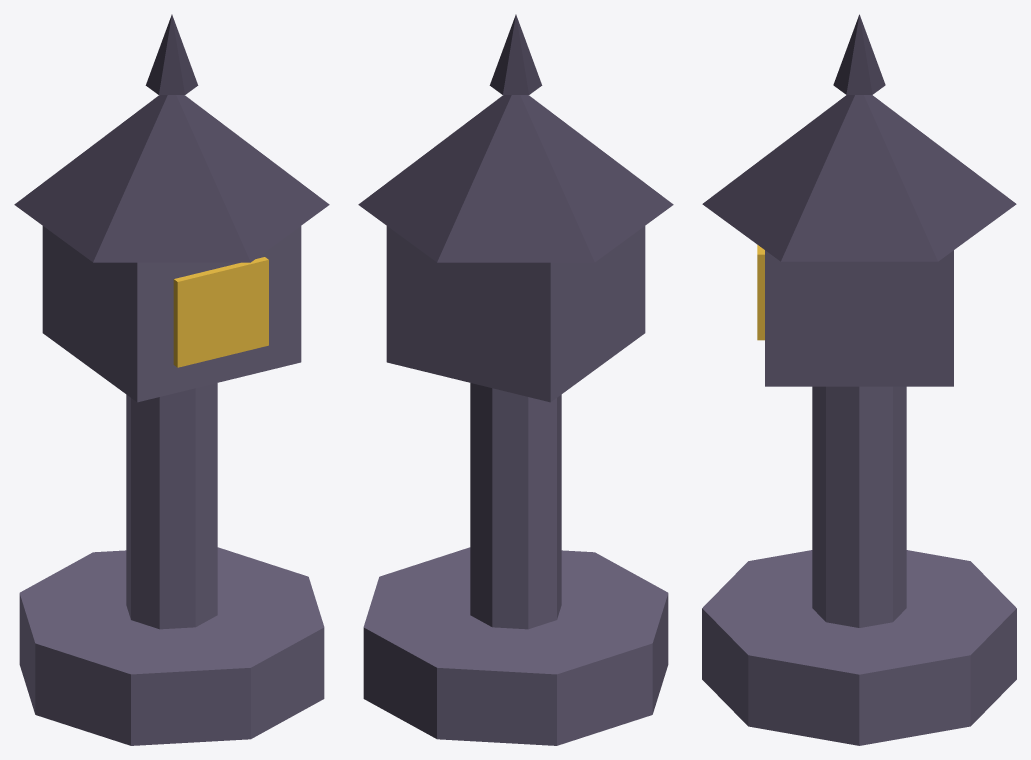
File: prop_lantern.glb
3 renders of one model, left to right at view 1: azimuth 30°, elevation 25°; view 2: azimuth 150°, elevation 25°; view 3: azimuth 270°, elevation 25°, orthographic.
Parts seen in each view (by area): view 1: PROP-LANTERN; view 2: PROP-LANTERN; view 3: PROP-LANTERN.
Boxes of the visible parts, left/top/right/bottom form: PROP-LANTERN: left=14, top=14, right=329, bottom=745; PROP-LANTERN: left=358, top=14, right=673, bottom=745; PROP-LANTERN: left=702, top=14, right=1016, bottom=745.
Size of the model in its own units: 0.6 by 1.4 by 0.6.
